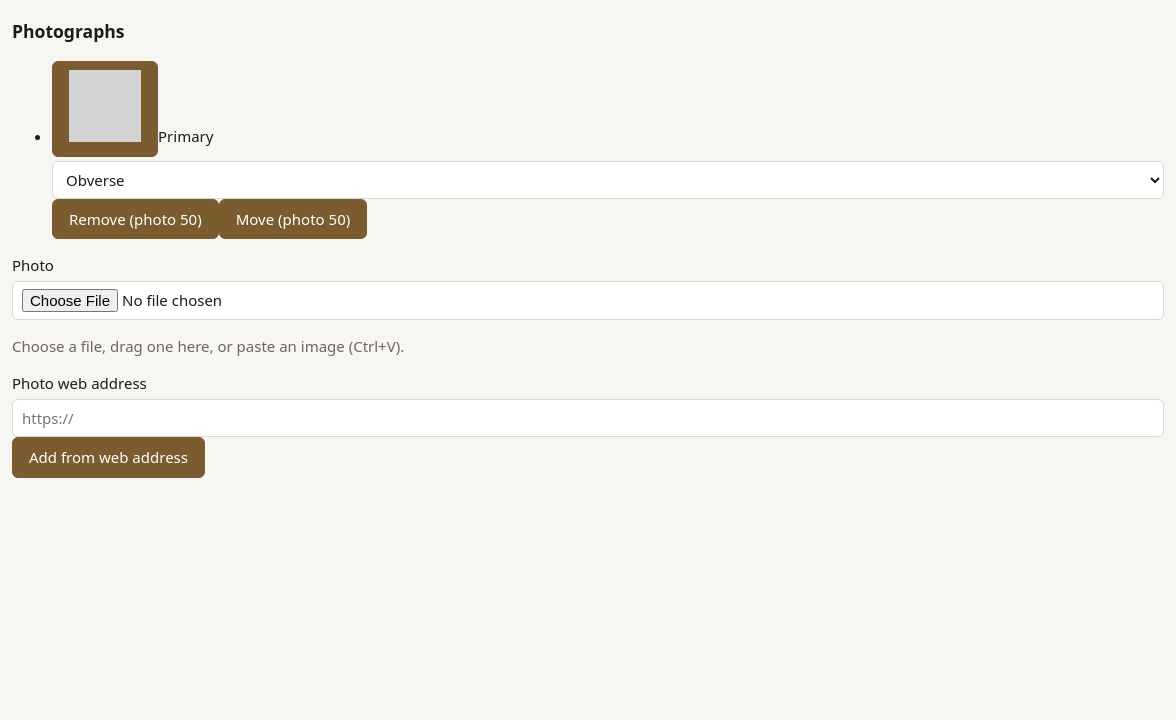
it: PhotosPanel: adding another photograph › says why when asked to add from an empty web address, and holds nothing
This screenshot has width=1176, height=720.
Click the button "Add from web address": coordinates (108, 458) x1=12 y1=437 x2=205 y2=478
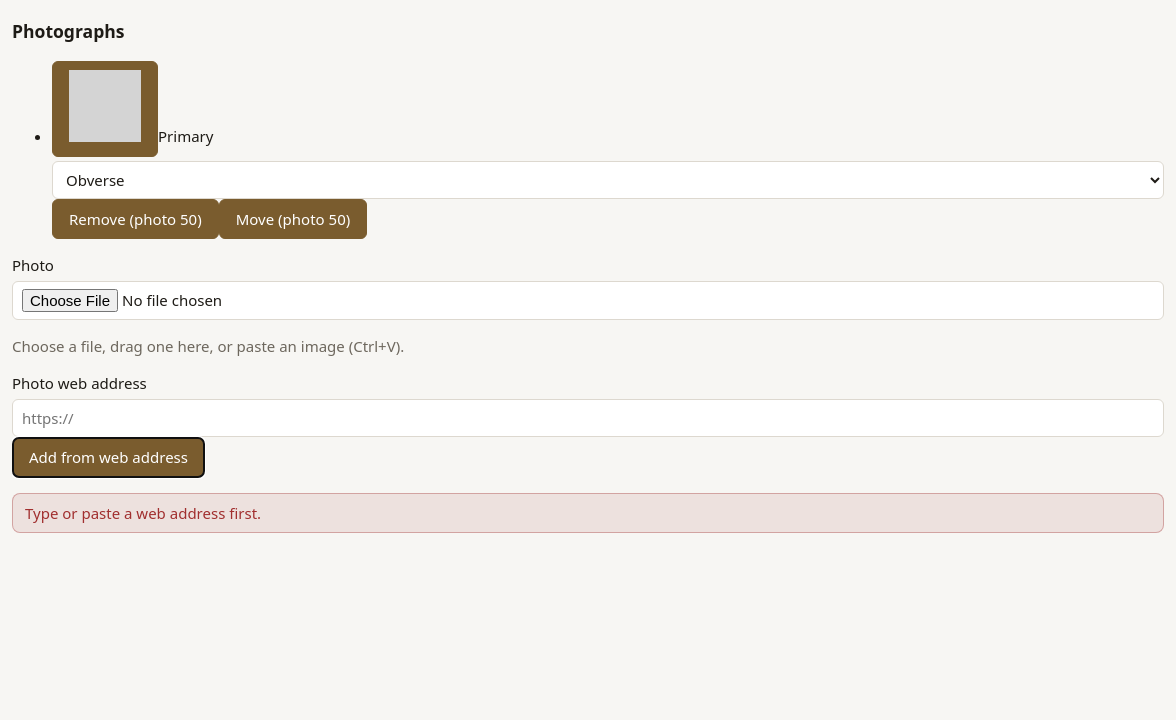
Check: the text "Type or paste a web address first." is shown, box x1=12 y1=493 x2=1164 y2=533
